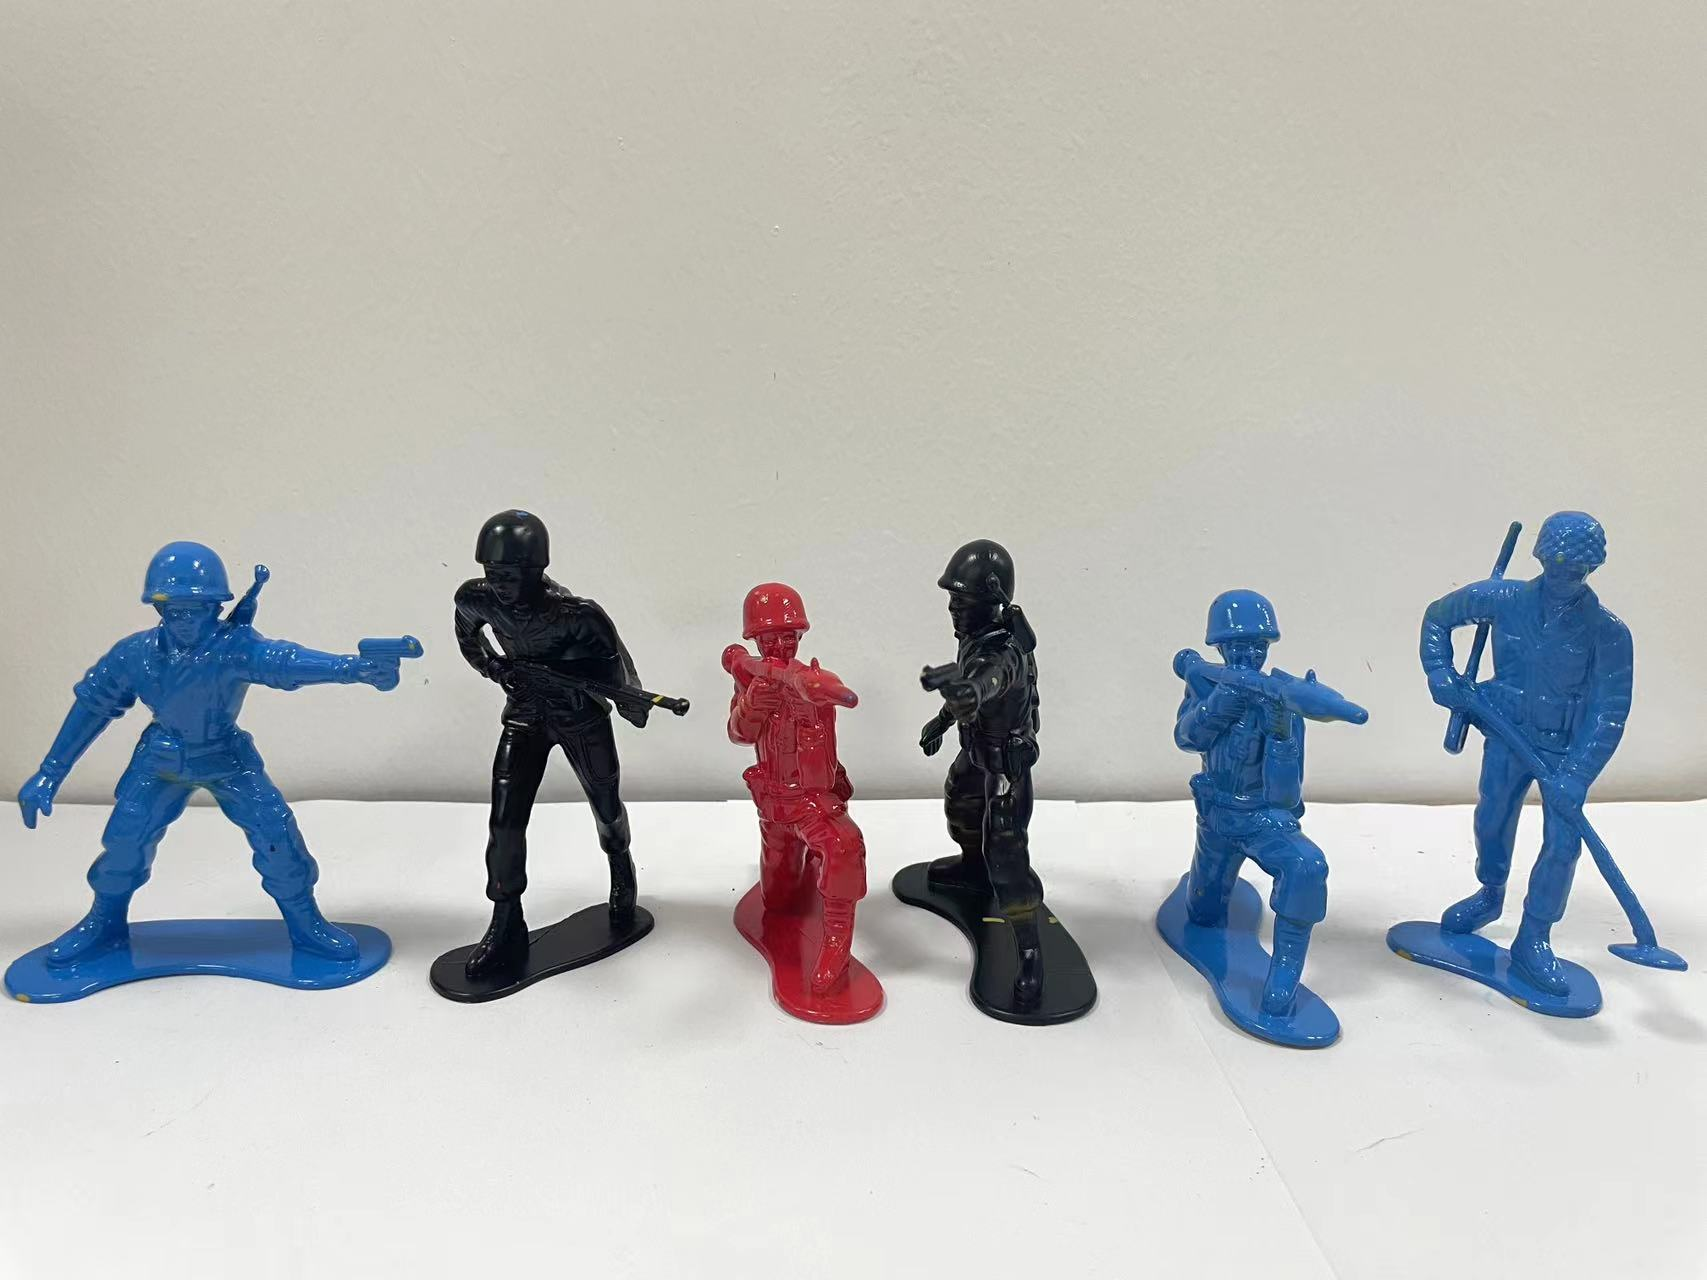black: (421, 499, 703, 1059), (907, 496, 1110, 1082)
blue: (7, 493, 423, 1077), (1366, 475, 1698, 1094), (1130, 563, 1386, 1094)
red: (691, 567, 886, 1053)
